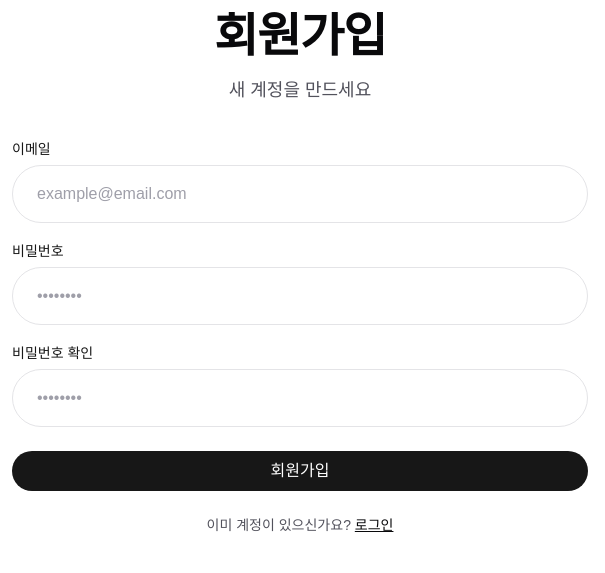
SignupForm › Validation - Password Mismatch › should show error for empty confirm password
Type "test@example.com" into the field labelled "이메일" at (300, 194), box [12,165,588,223]
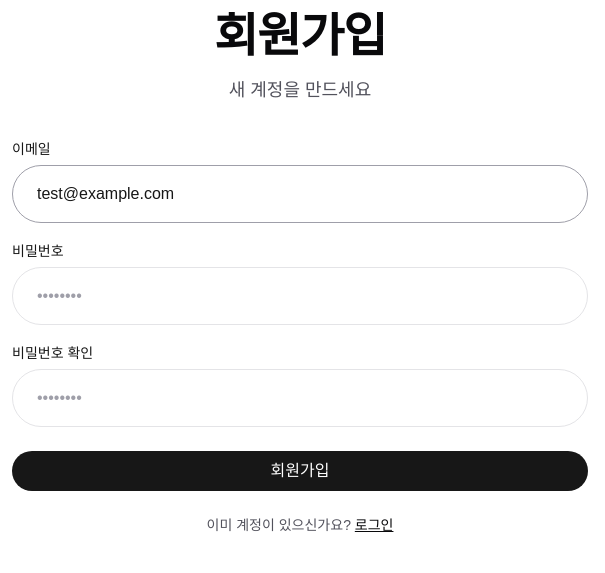
Type "password123" into the password field labelled "비밀번호" at (300, 296), box [12,267,588,325]
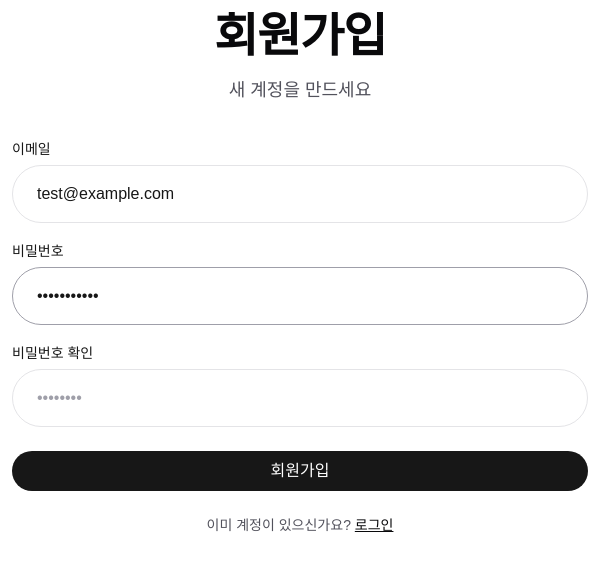
Click the button "회원가입" at (300, 471), box [12,451,588,491]
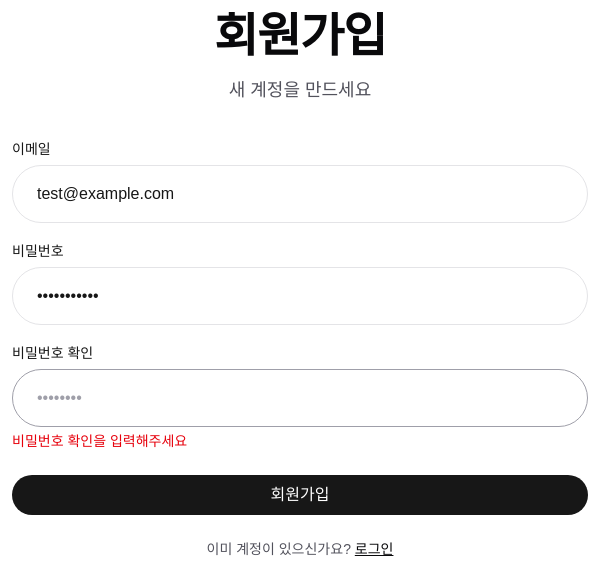
Now the text "비밀번호 확인을 입력해주세요" is shown, box [12,433,187,449]
